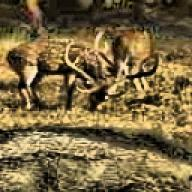boar: (0, 124, 192, 192)
